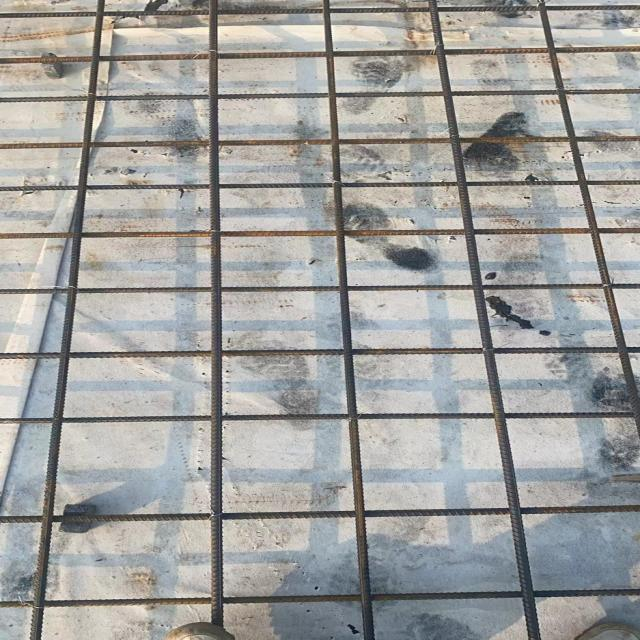ribbed bar: (428, 0, 543, 639), (28, 0, 106, 639), (533, 0, 638, 414), (321, 0, 375, 639), (0, 587, 639, 608), (203, 0, 223, 628), (0, 46, 639, 65), (0, 504, 639, 523), (0, 4, 639, 19), (0, 135, 639, 150), (0, 89, 639, 103), (0, 227, 639, 240), (0, 411, 639, 424), (0, 346, 639, 358), (0, 180, 639, 191), (0, 284, 639, 294)
